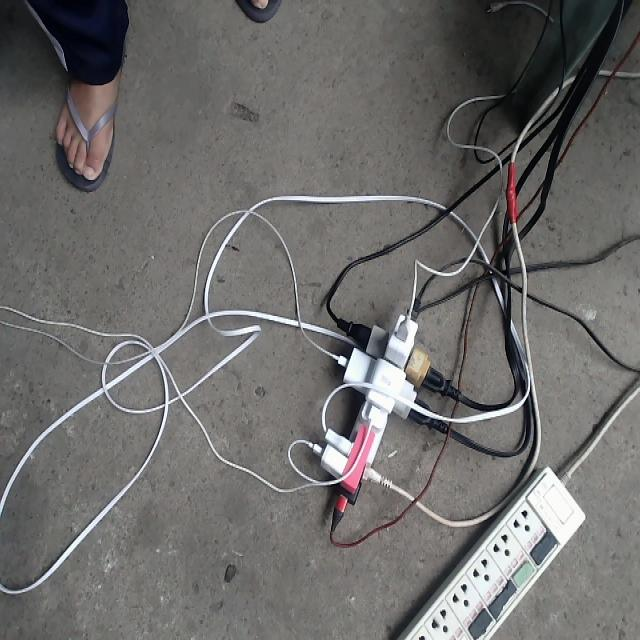-: (296, 302, 449, 530)
